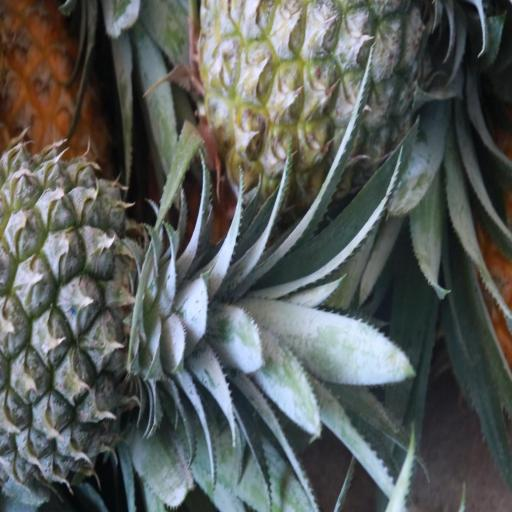------------------------------: (198, 2, 431, 204)
